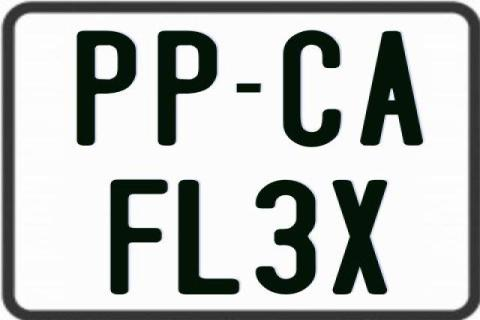0: (255, 180, 320, 299)
A: (358, 31, 422, 146)
C: (281, 29, 341, 145)
F: (107, 179, 171, 296)
L: (177, 178, 244, 298)
P: (75, 31, 139, 147), (157, 31, 221, 146)
X: (332, 177, 387, 297)
